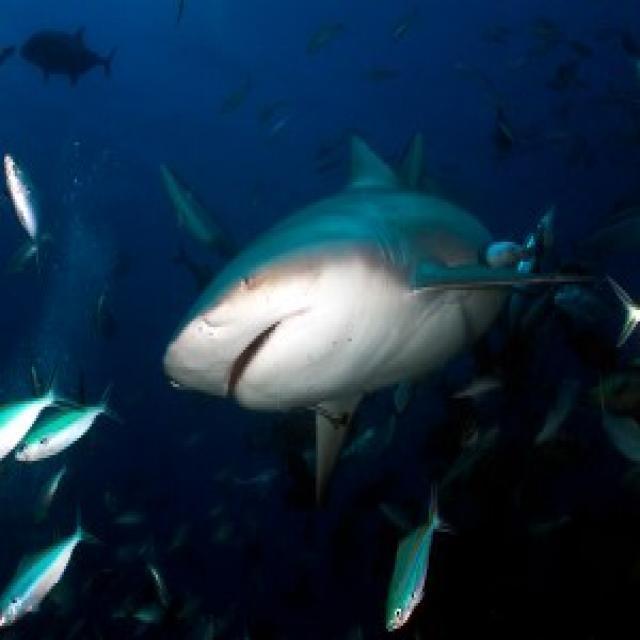Shark: (162, 133, 576, 462)
